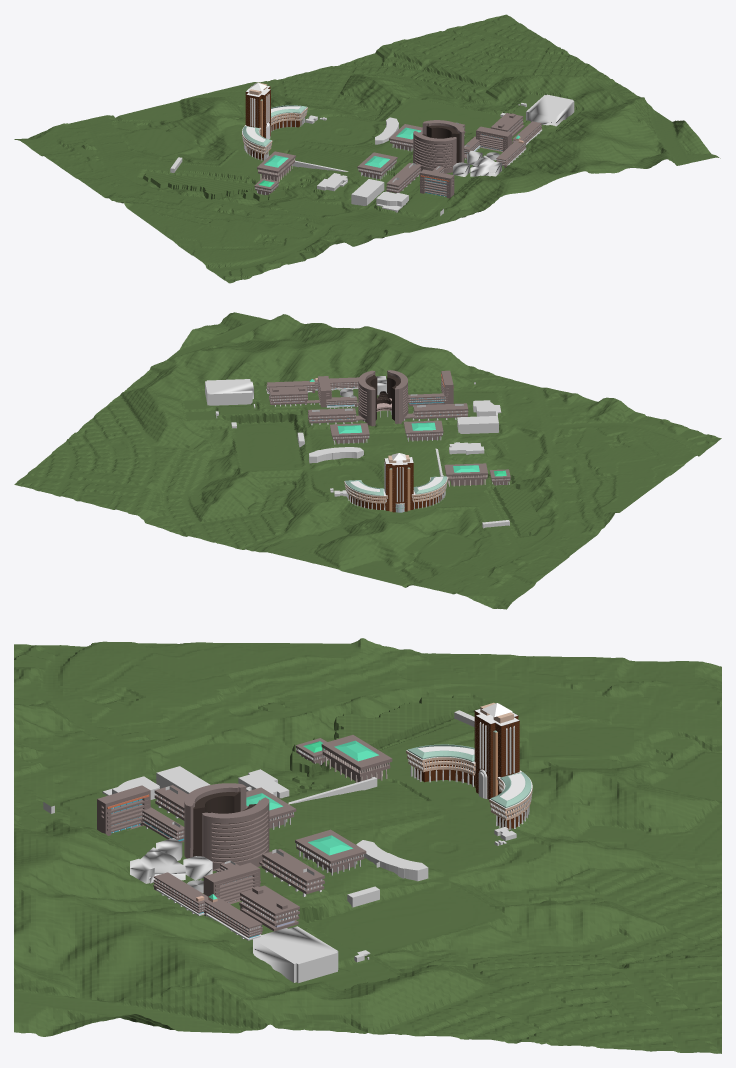
File: ジオメトリ.glb
The picture shows the model from 3 angles, top to bottom: view 1: azimuth 30°, elevation 25°; view 2: azimuth 150°, elevation 25°; view 3: azimuth 270°, elevation 25°; orthographic projection. The views are drawn at different scales.
Parts seen in each view (by area): view 1: plate, kariburokku, Cube.017, kennkyuutou1, Cube.461, Cube.274, Cube.327, Cube.299, Cube.297, kougitouB1, Cube.316, Cube.457; view 2: plate, kariburokku, Cube.017, kennkyuutou1, Cube.299, kougitouB1, Cube.274, kougitouA1, Cube.461, Cube.297, Cube.316, Cube.327 (+1 smaller); view 3: plate, kariburokku, Cube.017, kennkyuutou1, Cube.274, Cube.327, Cube.299, Cube.316, Cube.457, Cube.461, kougitouA1, Cube.297 (+1 smaller).
Boxes of the visible parts, x1=… form: plate: x1=14, y1=14, x2=720, y2=283; kariburokku: x1=170, y1=94, x2=574, y2=215; Cube.017: x1=242, y1=82, x2=307, y2=160; kennkyuutou1: x1=413, y1=120, x2=464, y2=173; Cube.461: x1=464, y1=126, x2=511, y2=159; Cube.274: x1=420, y1=166, x2=454, y2=198; Cube.327: x1=496, y1=121, x2=542, y2=167; Cube.299: x1=257, y1=151, x2=295, y2=181; Cube.297: x1=357, y1=152, x2=397, y2=180; kougitouB1: x1=386, y1=163, x2=421, y2=193; Cube.316: x1=389, y1=124, x2=422, y2=151; Cube.457: x1=490, y1=113, x2=524, y2=137; plate: x1=14, y1=312, x2=721, y2=609; kariburokku: x1=205, y1=376, x2=509, y2=528; Cube.017: x1=344, y1=453, x2=447, y2=512; kennkyuutou1: x1=358, y1=370, x2=408, y2=426; Cube.299: x1=444, y1=463, x2=487, y2=486; kougitouB1: x1=404, y1=403, x2=468, y2=420; Cube.274: x1=408, y1=370, x2=453, y2=406; kougitouA1: x1=308, y1=408, x2=365, y2=425; Cube.461: x1=305, y1=376, x2=358, y2=408; Cube.297: x1=403, y1=420, x2=443, y2=441; Cube.316: x1=330, y1=423, x2=369, y2=444; Cube.327: x1=266, y1=377, x2=358, y2=393; plate: x1=14, y1=638, x2=721, y2=1053; kariburokku: x1=43, y1=710, x2=516, y2=983; Cube.017: x1=406, y1=702, x2=532, y2=829; kennkyuutou1: x1=184, y1=783, x2=269, y2=871; Cube.274: x1=97, y1=785, x2=184, y2=842; Cube.327: x1=153, y1=872, x2=262, y2=940; Cube.299: x1=321, y1=735, x2=392, y2=782; Cube.316: x1=295, y1=829, x2=366, y2=875; Cube.457: x1=239, y1=885, x2=299, y2=931; Cube.461: x1=203, y1=860, x2=260, y2=904; kougitouA1: x1=259, y1=849, x2=324, y2=896; Cube.297: x1=246, y1=787, x2=296, y2=829.
Bounding box in the file's own units: 1481 × 199 × 1121.
